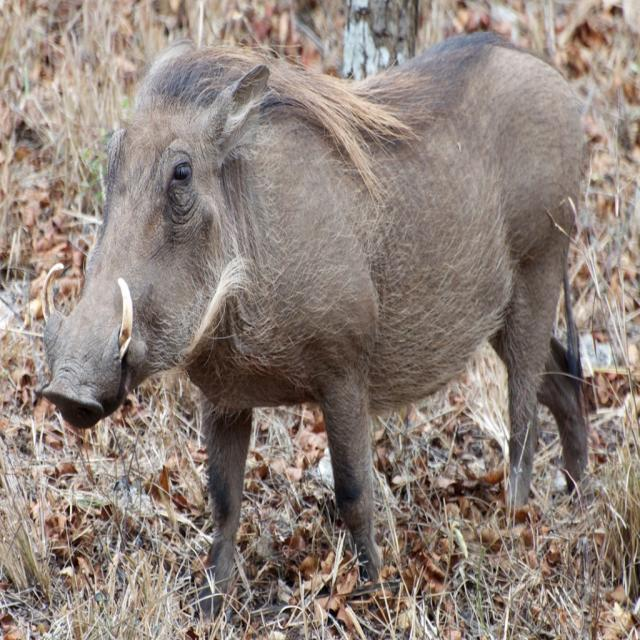Pig: (42, 31, 588, 623)
